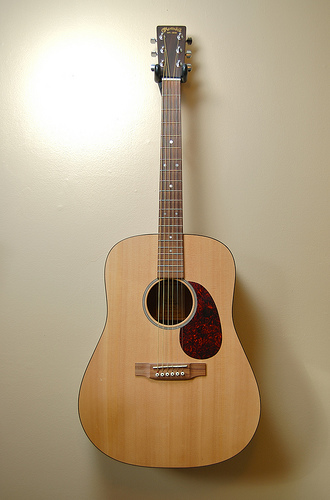guitar: (76, 22, 261, 469)
